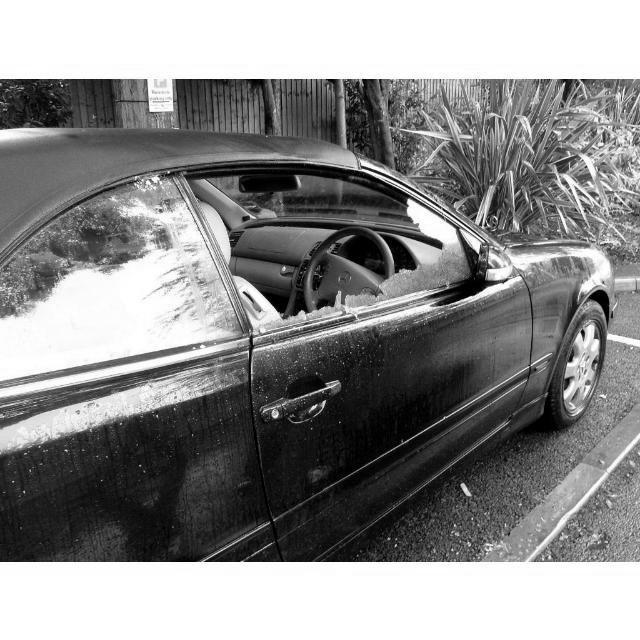doorouter-dent: (262, 154, 548, 547)
